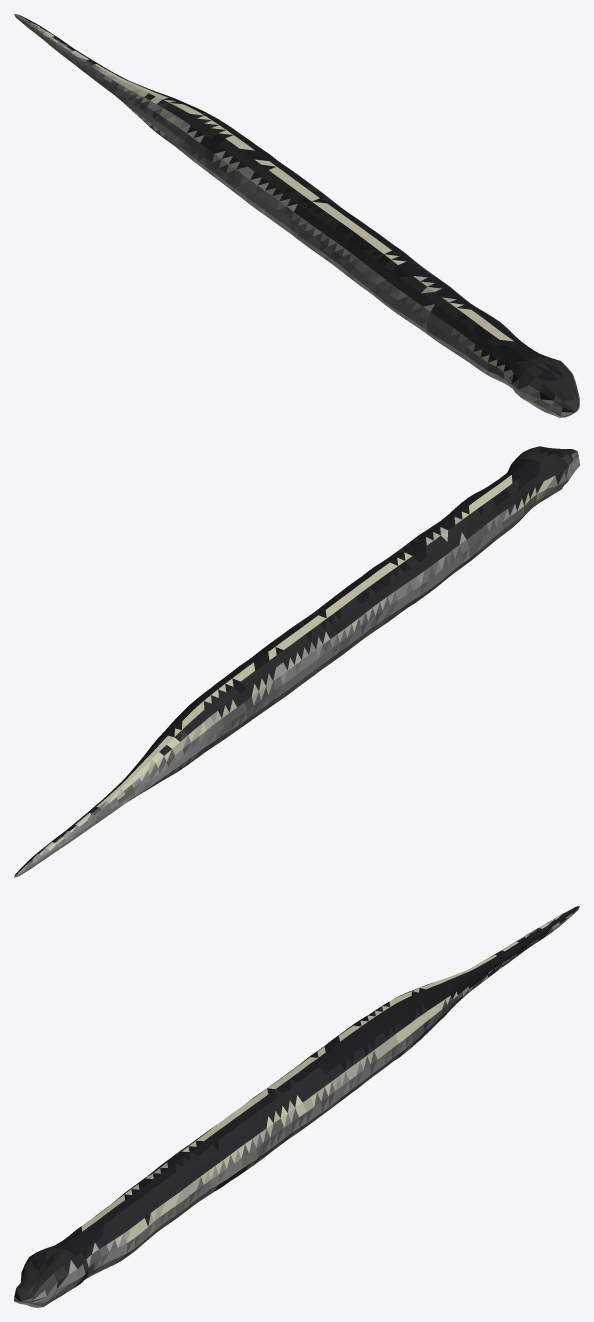
The model's file is thamnophis_elegans.glb.
3 views of the same model, one above another, from view 1: azimuth 30°, elevation 25°; view 2: azimuth 150°, elevation 25°; view 3: azimuth 330°, elevation 25° (orthographic).
Visible parts, largest first — view 1: lod0; view 2: lod0; view 3: lod0.
Boxes of the visible parts, x1,y1,x2,y2 form: lod0: [14, 14, 579, 417]; lod0: [14, 446, 579, 877]; lod0: [14, 906, 579, 1307].
Size of what is drawn, in the model's own units: 0.0367 by 0.0301 by 0.7078.
